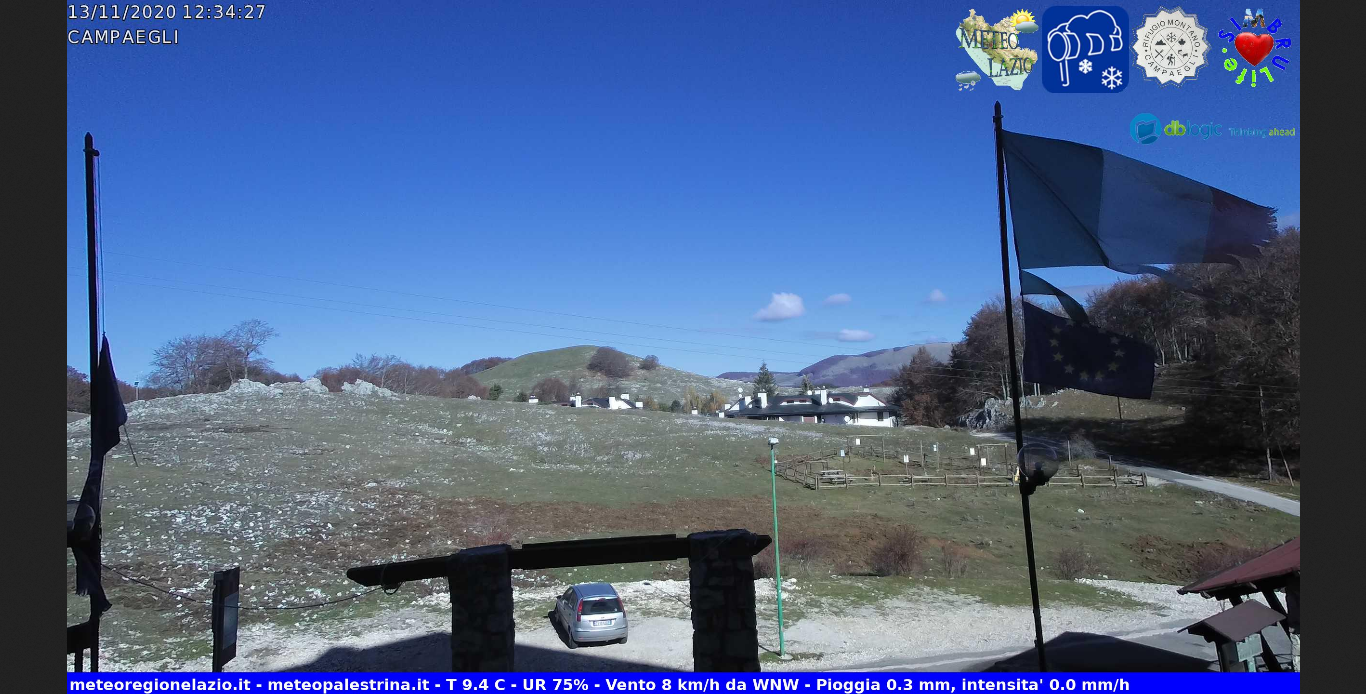yes: (985, 111, 1285, 285), (994, 298, 1169, 410)
